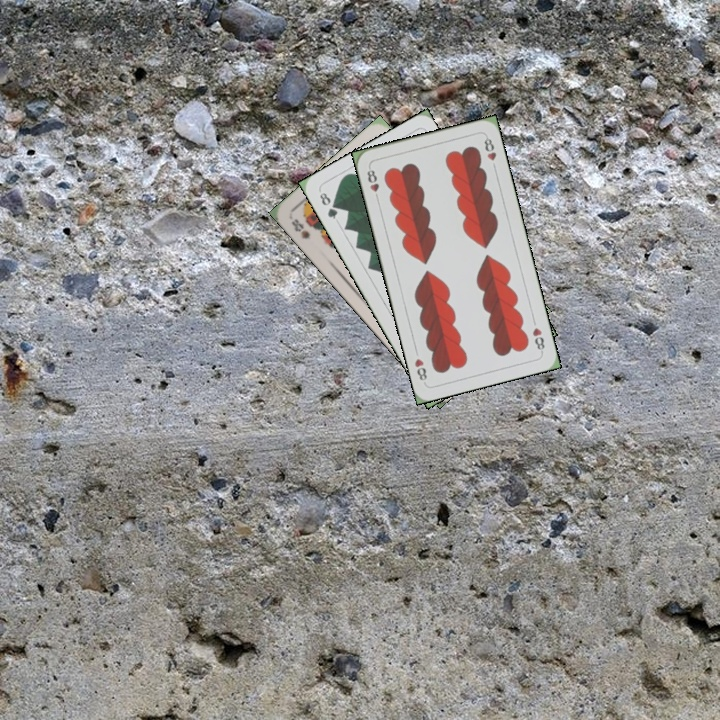G8: (315, 188, 340, 222)
H8: (363, 163, 382, 203), (528, 323, 547, 355)
S8: (287, 214, 313, 242)
